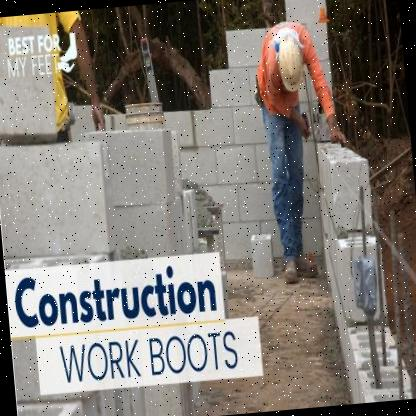bota: (297, 249, 323, 281), (280, 258, 301, 284)
capacete: (268, 34, 314, 95)
